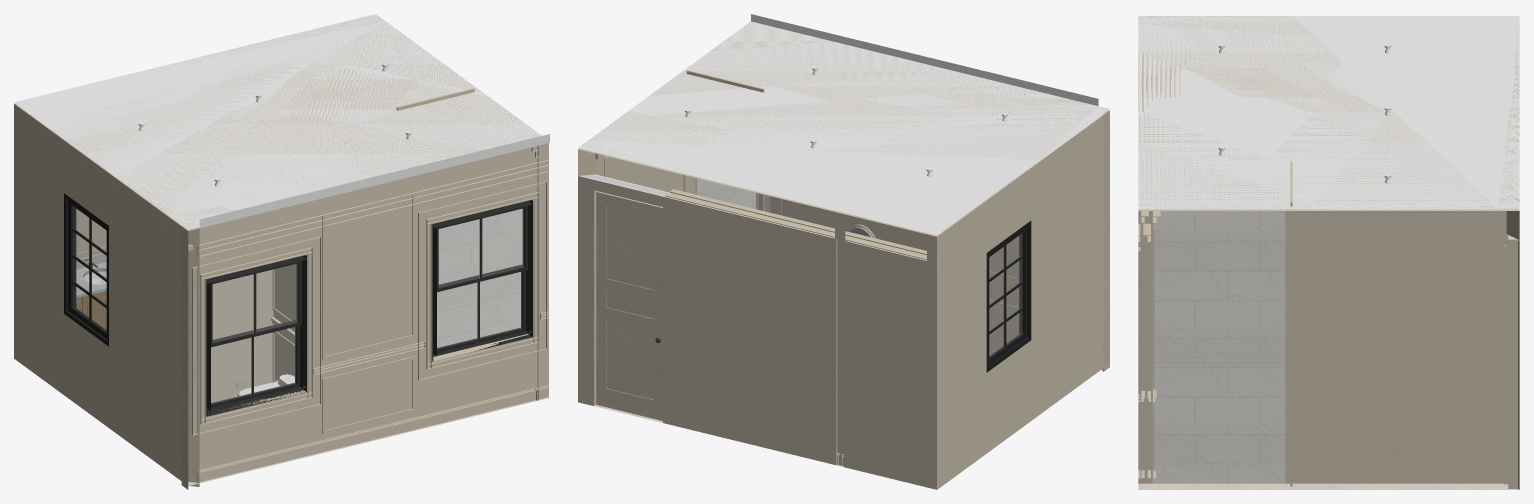
The model's file is primary-bath-24f5e1bc920c.glb.
The picture shows the model from 3 angles, left to right: view 1: azimuth 30°, elevation 25°; view 2: azimuth 150°, elevation 25°; view 3: azimuth 270°, elevation 25°; orthographic projection. The views are drawn at different scales.
Visible parts, largest first — view 1: primary-bath-9d91b47435c6fb33, primary-bath-b0ade14315e4f1c3, primary-bath-c51ecd664a3b22a3, primary-bath-e8793759323e04f0, primary-bath-60f0db96f832035a, primary-bath-b5cb73c07919def8, primary-bath-10eba734bfa580f9, primary-bath-20932135983111ad, primary-bath-f16673f3b541985d, primary-bath-ef64d5096d209f6d, primary-bath-b5339e4b2b15762b, primary-bath-62353aa10fc57f23 (+14 smaller); view 2: primary-bath-9ecc0d558be1c706, primary-bath-9d91b47435c6fb33, primary-bath-c51ecd664a3b22a3, primary-bath-e8793759323e04f0, primary-bath-18f70a4a9eda5dac, primary-bath-20932135983111ad, primary-bath-25ea03c5717987c5, primary-bath-e48b5483df8cacdb, primary-bath-fc6585fecfaf7ec3, primary-bath-62353aa10fc57f23, primary-bath-1a6c50e4c3accb7b, primary-bath-b88ac105ef7c3bdb (+4 smaller); view 3: primary-bath-9d91b47435c6fb33, primary-bath-fc6585fecfaf7ec3, primary-bath-3d8660a29b1e398e, primary-bath-e8793759323e04f0, primary-bath-2bc0761cc32b9613, primary-bath-c791a0f218fead78, primary-bath-9ecc0d558be1c706, primary-bath-343da8f45fc39332, primary-bath-b3921aced1f99593, primary-bath-b3dc771ed6f89851, primary-bath-38b306e83be12a4b, primary-bath-2524bad2f0b4651d (+6 smaller).
Part boxes in pixels (x1,y1,x2,y2): primary-bath-9d91b47435c6fb33: (14, 14, 549, 230); primary-bath-b0ade14315e4f1c3: (199, 143, 548, 479); primary-bath-c51ecd664a3b22a3: (14, 103, 181, 480); primary-bath-e8793759323e04f0: (61, 16, 549, 229); primary-bath-60f0db96f832035a: (206, 255, 306, 416); primary-bath-b5cb73c07919def8: (432, 200, 532, 360); primary-bath-10eba734bfa580f9: (215, 269, 273, 401); primary-bath-20932135983111ad: (64, 193, 108, 346); primary-bath-f16673f3b541985d: (437, 208, 522, 297); primary-bath-ef64d5096d209f6d: (197, 385, 549, 483); primary-bath-b5339e4b2b15762b: (197, 159, 549, 257); primary-bath-62353aa10fc57f23: (181, 226, 199, 489); primary-bath-9ecc0d558be1c706: (578, 174, 935, 489); primary-bath-9d91b47435c6fb33: (578, 21, 1109, 236); primary-bath-c51ecd664a3b22a3: (927, 115, 1103, 489); primary-bath-e8793759323e04f0: (581, 14, 1104, 170); primary-bath-18f70a4a9eda5dac: (596, 191, 662, 420); primary-bath-20932135983111ad: (986, 220, 1031, 372); primary-bath-25ea03c5717987c5: (989, 235, 1019, 355); primary-bath-e48b5483df8cacdb: (835, 212, 845, 467); primary-bath-fc6585fecfaf7ec3: (578, 149, 693, 193); primary-bath-62353aa10fc57f23: (1102, 110, 1109, 371); primary-bath-1a6c50e4c3accb7b: (770, 196, 892, 242); primary-bath-b88ac105ef7c3bdb: (592, 188, 664, 423); primary-bath-9d91b47435c6fb33: (1138, 16, 1519, 210); primary-bath-fc6585fecfaf7ec3: (1292, 209, 1519, 489); primary-bath-3d8660a29b1e398e: (1152, 211, 1284, 351); primary-bath-e8793759323e04f0: (1138, 16, 1519, 209); primary-bath-2bc0761cc32b9613: (1152, 366, 1284, 483); primary-bath-c791a0f218fead78: (1138, 209, 1290, 483); primary-bath-9ecc0d558be1c706: (1506, 234, 1518, 488); primary-bath-343da8f45fc39332: (1296, 470, 1498, 483); primary-bath-b3921aced1f99593: (1138, 483, 1518, 489); primary-bath-b3dc771ed6f89851: (1308, 224, 1486, 382); primary-bath-38b306e83be12a4b: (1152, 351, 1284, 366); primary-bath-2524bad2f0b4651d: (1308, 403, 1486, 462).
Bounding box in the file's own units: 4.3 × 3.04 × 3.59.
Materials: 32 (8 with a texture image).
